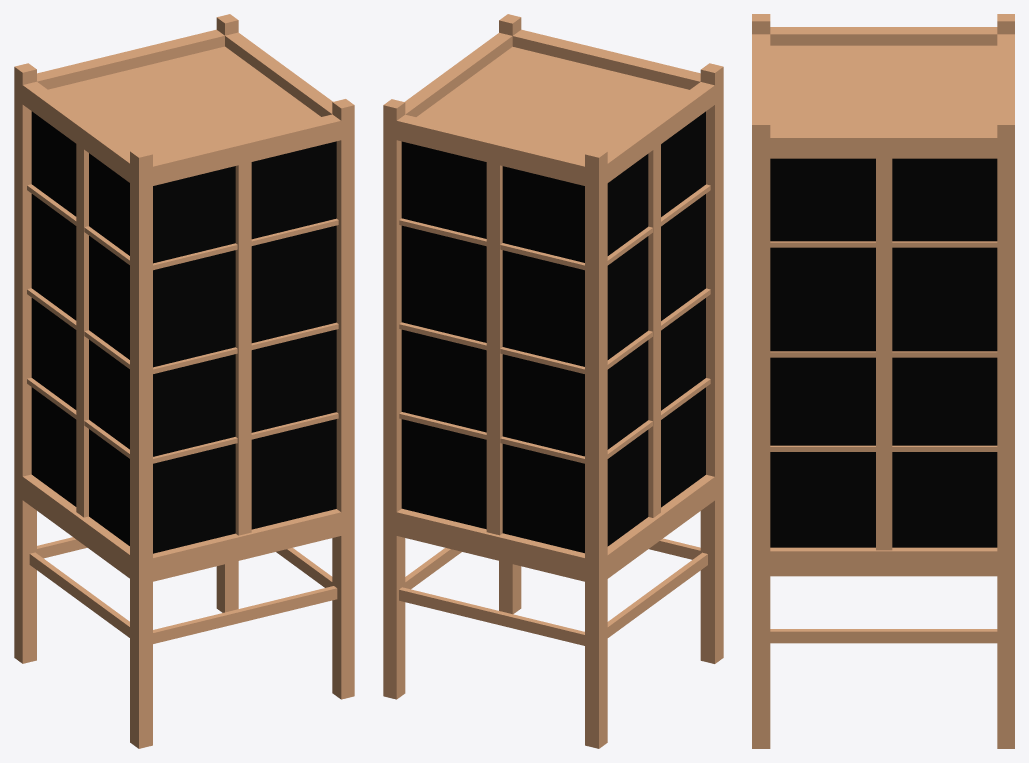
The model's file is tatami_lamp.FBX.
3 views of the same model, side by side, from view 1: azimuth 30°, elevation 25°; view 2: azimuth 150°, elevation 25°; view 3: azimuth 270°, elevation 25° (orthographic). The views are drawn at different scales.
Parts seen in each view (by area): view 1: Cube; view 2: Cube; view 3: Cube.
Part boxes in pixels (box(x1,y1,x2,y2)): Cube: box(14, 14, 354, 748); Cube: box(383, 14, 723, 748); Cube: box(752, 14, 1014, 748).
Size of the model in its own units: 200 by 524 by 200.
